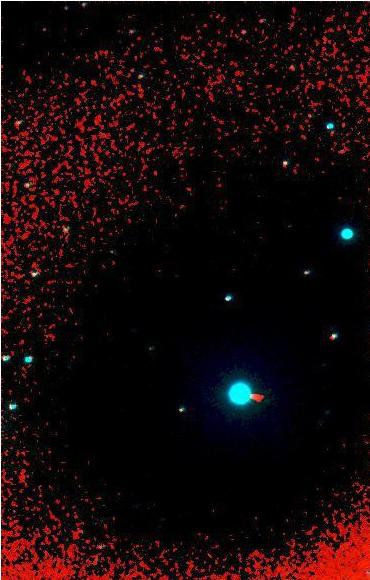star: (235, 381, 265, 411)
